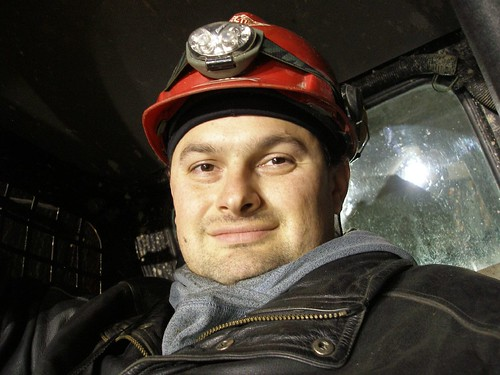person hardhat: (103, 12, 478, 374)
